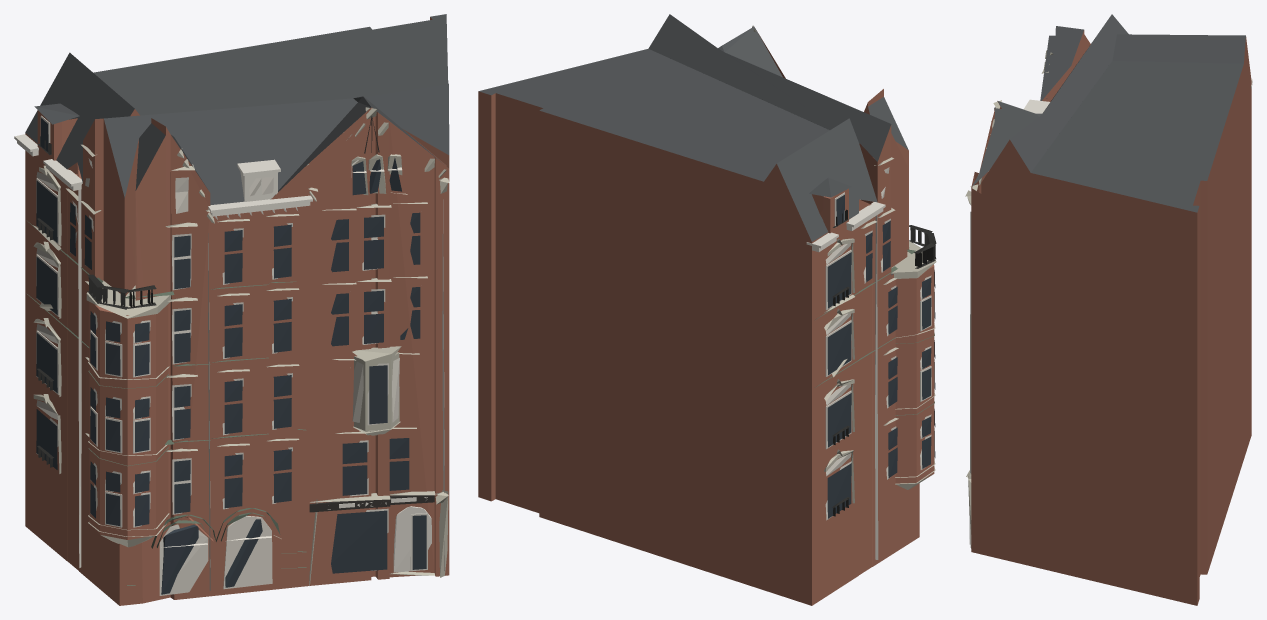
The model's file is raadhuisstraat-52.lod1.glb.
The picture shows the model from 3 angles, left to right: view 1: azimuth 30°, elevation 25°; view 2: azimuth 150°, elevation 25°; view 3: azimuth 270°, elevation 25°; orthographic projection. The views are drawn at different scales.
Parts seen in each view (by area): view 1: raadhuisstraat-52; view 2: raadhuisstraat-52; view 3: raadhuisstraat-52.
Boxes of the visible parts, x1,y1,x2,y2 form: raadhuisstraat-52: [14, 14, 449, 605]; raadhuisstraat-52: [478, 14, 936, 605]; raadhuisstraat-52: [965, 14, 1252, 605].
Bounding box in the file's own units: 22.63 × 24.23 × 14.9.
